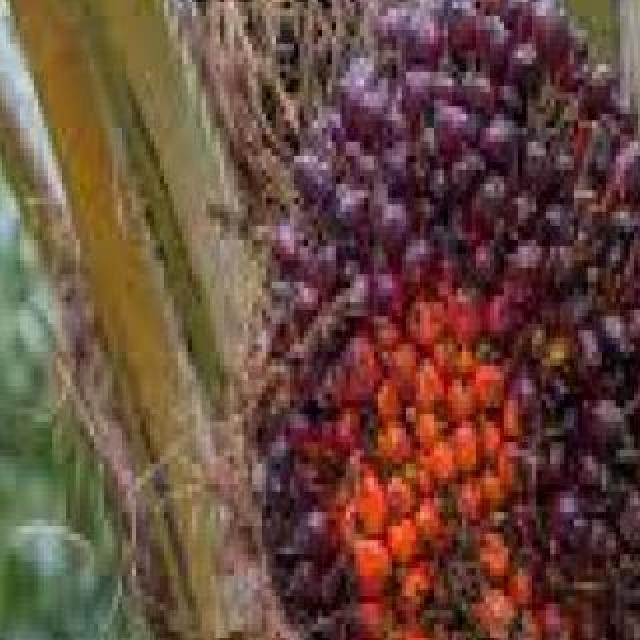Ripe: (308, 0, 640, 640)
